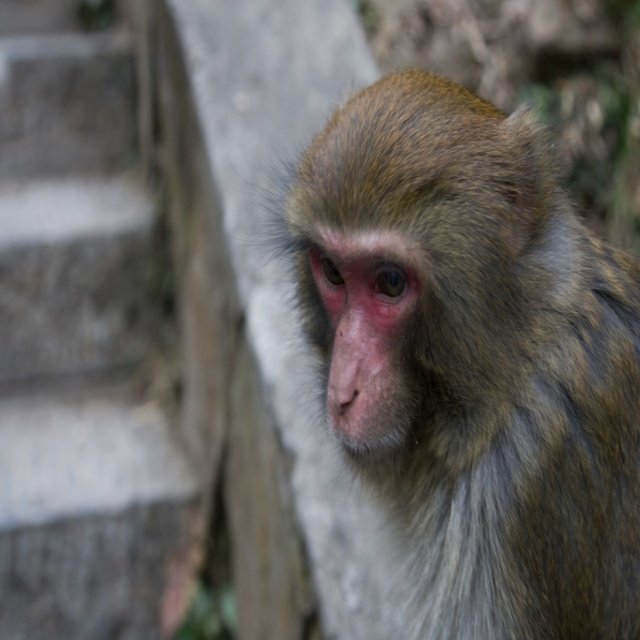Monkey: (248, 71, 640, 639)
